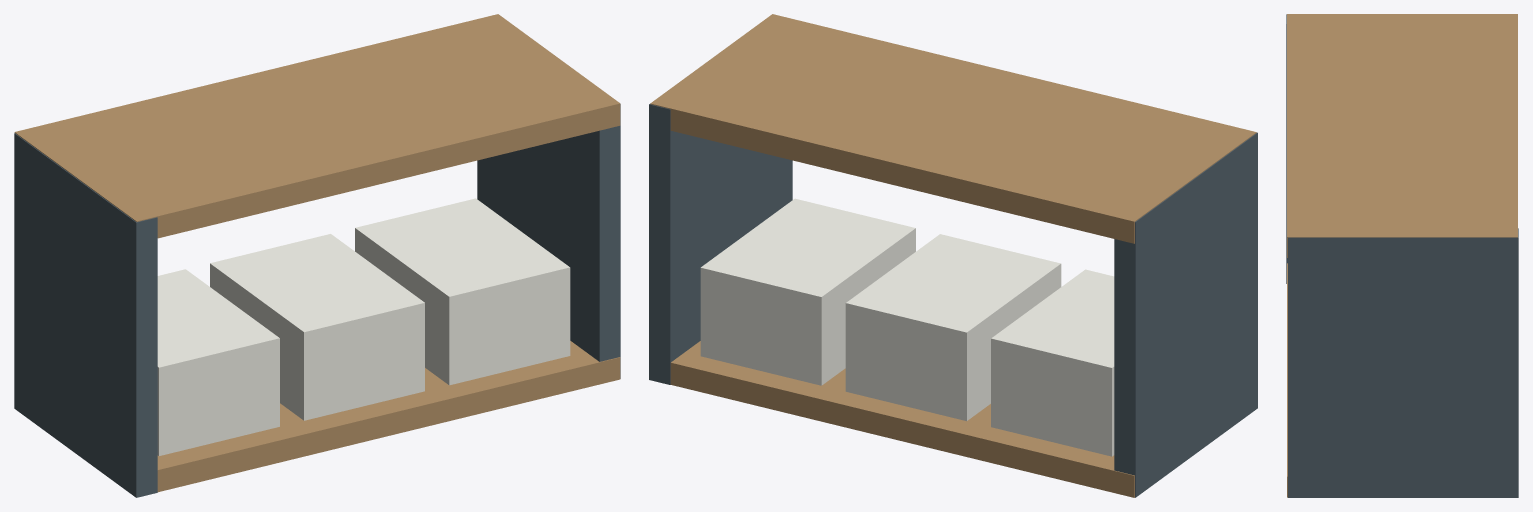
File: football-soccer-club-grounds-towel-shelf-8d7f3ef9.glb
The picture shows the model from 3 angles, left to right: view 1: azimuth 30°, elevation 25°; view 2: azimuth 150°, elevation 25°; view 3: azimuth 270°, elevation 25°; orthographic projection. The views are drawn at different scales.
Parts seen in each view (by area): view 1: towel-shelf; view 2: towel-shelf; view 3: towel-shelf.
Boxes of the visible parts, bbox=[...] form: towel-shelf: bbox=[14, 14, 620, 497]; towel-shelf: bbox=[649, 14, 1257, 497]; towel-shelf: bbox=[1286, 14, 1518, 497].
Bounding box in the file's own units: 0.8024 × 0.4362 × 0.3524.
